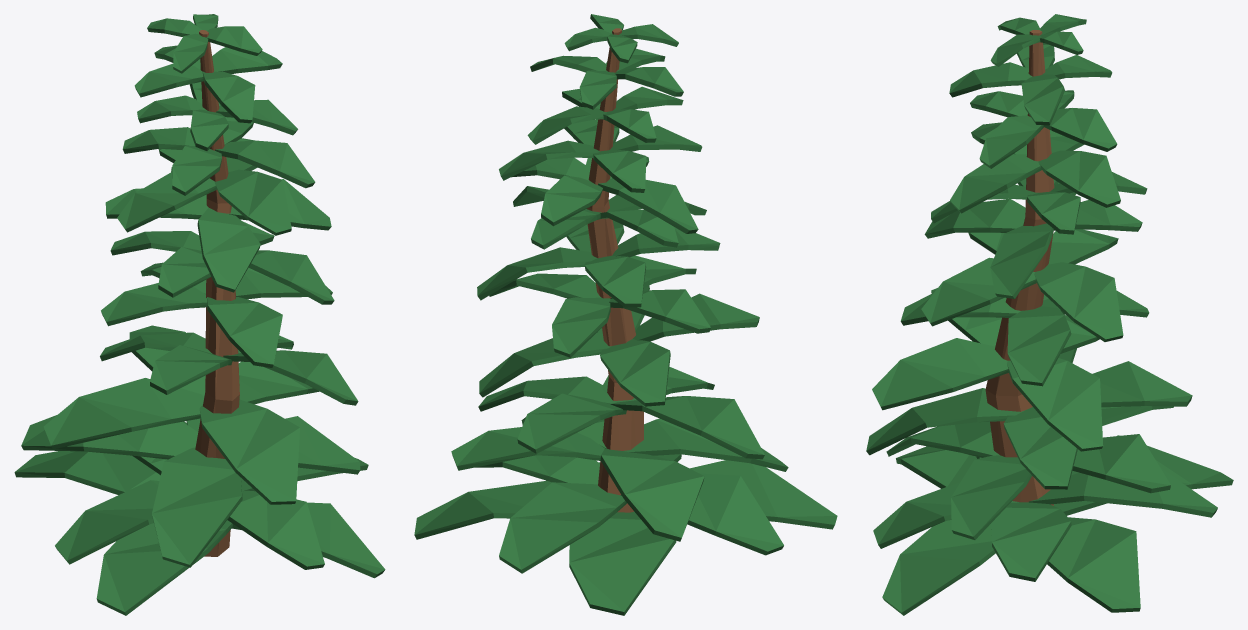
The model's file is tree09.fbx.
3 views of the same model, side by side, from view 1: azimuth 30°, elevation 25°; view 2: azimuth 150°, elevation 25°; view 3: azimuth 270°, elevation 25° (orthographic).
Parts seen in each view (by area): view 1: tree09_LOD0; view 2: tree09_LOD0; view 3: tree09_LOD0.
Part boxes in pixels (bbox=[...]): tree09_LOD0: bbox=[14, 14, 385, 615]; tree09_LOD0: bbox=[414, 14, 837, 615]; tree09_LOD0: bbox=[866, 14, 1233, 615].
Size of what is drawn, in the model's own units: 452 by 706 by 442.
